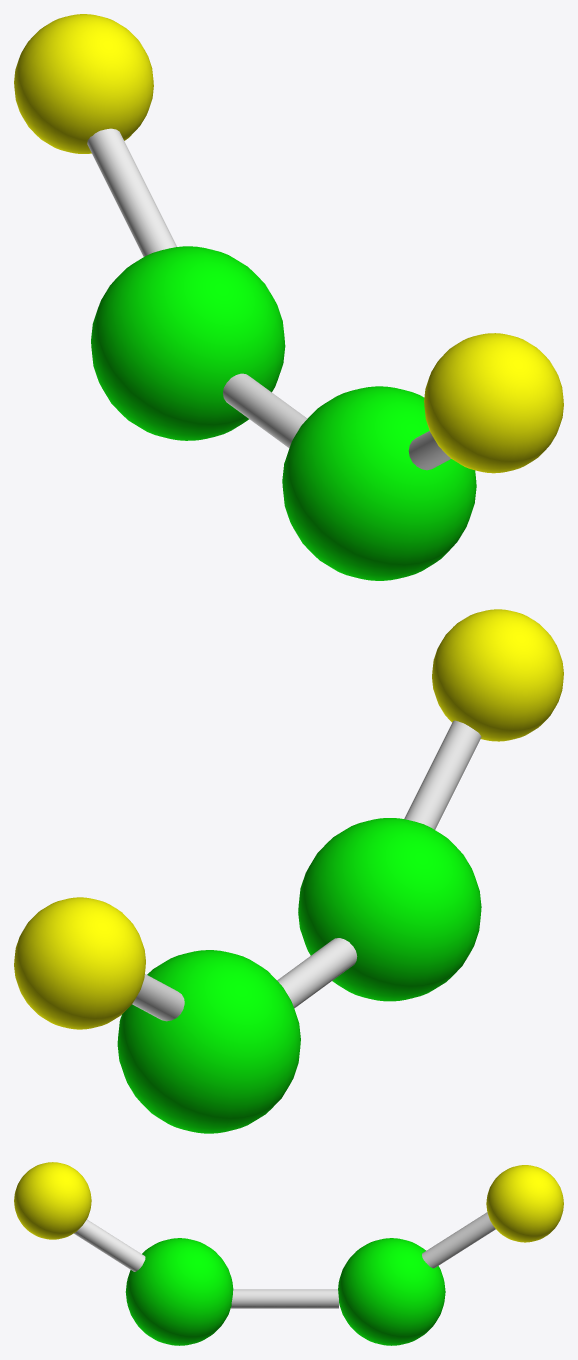
3 renders of one model, top to bottom at view 1: azimuth 30°, elevation 25°; view 2: azimuth 150°, elevation 25°; view 3: azimuth 270°, elevation 25°, orthographic. The views are drawn at different scales.
Visible parts, largest first — view 1: Sphere001, Sphere006, Sphere005, Sphere007, Cylinder003, Cylinder001, Cylinder002; view 2: Sphere006, Sphere001, Sphere007, Sphere005, Cylinder002, Cylinder001, Cylinder003; view 3: Sphere006, Sphere001, Sphere005, Sphere007, Cylinder001, Cylinder003, Cylinder002.
Part boxes in pixels (left/top/right/bottom): Sphere001: left=91, top=246, right=285, bottom=440; Sphere006: left=282, top=386, right=476, bottom=580; Sphere005: left=424, top=333, right=563, bottom=473; Sphere007: left=14, top=14, right=153, bottom=153; Cylinder003: left=87, top=128, right=176, bottom=256; Cylinder001: left=223, top=373, right=307, bottom=447; Cylinder002: left=408, top=431, right=450, bottom=470; Sphere006: left=298, top=818, right=481, bottom=1001; Sphere001: left=117, top=950, right=300, bottom=1133; Sphere007: left=14, top=897, right=145, bottom=1029; Sphere005: left=432, top=609, right=563, bottom=741; Cylinder002: left=404, top=720, right=481, bottom=829; Cylinder001: left=277, top=938, right=357, bottom=1008; Cylinder003: left=132, top=974, right=184, bottom=1021; Sphere006: left=125, top=1238, right=233, bottom=1345; Sphere001: left=338, top=1238, right=445, bottom=1345; Sphere005: left=14, top=1162, right=91, bottom=1239; Sphere007: left=486, top=1165, right=563, bottom=1242; Cylinder001: left=231, top=1289, right=338, bottom=1308; Cylinder003: left=422, top=1212, right=495, bottom=1268; Cylinder002: left=74, top=1219, right=145, bottom=1271.
Size of the model in its own units: 1000 by 1808 by 5099.
Materials: 2 (2 with a texture image).
